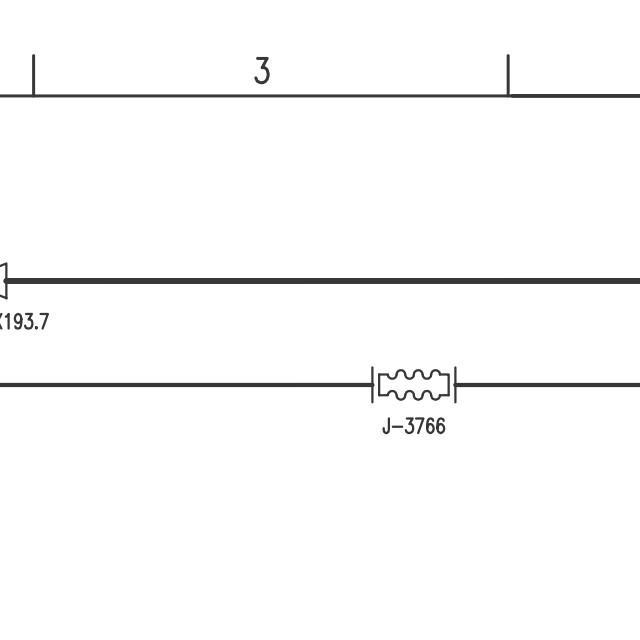EJ: (365, 360, 464, 405)
